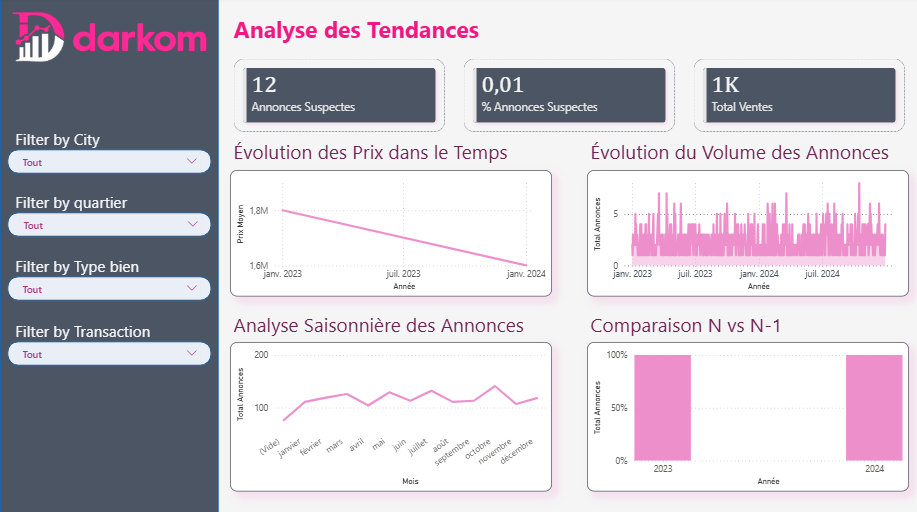

Layout of this report page (visuals, bound fields, positions):
{"tool":"powerbi","page":{"name":"analyse des tendances","canvas":[1280,720],"ordinal":3},"visuals":[{"type":"shape","box":[0,0,1280,719.4],"z":0},{"type":"shape","box":[0,0,304,720],"z":1000},{"type":"image","box":[0,0,304,112],"z":2000},{"type":"textbox","title":"titel","box":[320,16,688,64],"z":3000},{"type":"cardVisual","title":"averege price per m² (card)","fields":{"Data":["bi_schema fact_annonces.Annonces Suspectes"]},"box":[320,80,304,112],"z":4000},{"type":"cardVisual","title":"averege price per m² (card)","fields":{"Data":["bi_schema fact_annonces.Total Ventes"]},"box":[960,80,304,112],"z":5000},{"type":"cardVisual","title":"averege price per m² (card)","fields":{"Data":["bi_schema fact_annonces.% Annonces Suspectes"]},"box":[640,80,304,112],"z":6000},{"type":"areaChart","fields":{"Category":["bi_schema dim_date.date_publication.Variation.Hiérarchie de dates.Année","bi_schema dim_date.date_publication.Variation.Hiérarchie de dates.Trimestre","bi_schema dim_date.date_publication.Variation.Hiérarchie de dates.Mois","bi_schema dim_date.date_publication.Variation.Hiérarchie de dates.Jour"],"Y":["bi_schema fact_annonces.Total Annonces"]},"box":[816,240,448,176],"z":7000},{"type":"lineChart","fields":{"Category":["bi_schema dim_date.date_publication.Variation.Hiérarchie de dates.Mois"],"Y":["bi_schema fact_annonces.Total Annonces"]},"box":[320,480,448,208],"z":8000},{"type":"shape","box":[6.9,209.1,290.2,40.2],"z":9000},{"type":"slicer","fields":{"Values":["bi_schema dim_localisation.ville"]},"box":[15.6,204.8,273.9,40.6],"z":10000},{"type":"hundredPercentStackedColumnChart","fields":{"Y":["bi_schema fact_annonces.Total Annonces"],"Category":["bi_schema dim_date.date_publication.Variation.Hiérarchie de dates.Année"]},"box":[816,480,448,208],"z":11000},{"type":"textbox","title":"titel","box":[16.2,178.4,272,48],"z":12000},{"type":"shape","box":[7.5,296.5,290.2,40.2],"z":13000},{"type":"slicer","fields":{"Values":["bi_schema dim_localisation.quartier"]},"box":[16.2,292.1,273.9,40.6],"z":14000},{"type":"textbox","title":"titel","box":[16.9,265.7,272,48],"z":15000},{"type":"shape","box":[7.3,385.9,290.2,40.2],"z":16000},{"type":"slicer","fields":{"Values":["bi_schema dim_bien.type_bien"]},"box":[15.9,381.5,273.9,40.6],"z":17000},{"type":"textbox","title":"titel","box":[16.6,355.1,272,48],"z":18000},{"type":"textbox","title":"titel","box":[320,192,432,48],"z":19000},{"type":"textbox","title":"titel","box":[816,192,448,48],"z":20000},{"type":"textbox","title":"titel","box":[320,432,448,48],"z":21000},{"type":"textbox","title":"titel","box":[816,432,304,48],"z":22000},{"type":"shape","box":[7.3,476.5,290.2,40.2],"z":23000},{"type":"slicer","fields":{"Values":["bi_schema dim_bien.transaction"]},"box":[16,472.1,273.9,40.6],"z":24000},{"type":"textbox","title":"titel","box":[16.6,445.7,272,48],"z":25000},{"type":"lineChart","fields":{"Category":["bi_schema dim_date.date_publication.Variation.Hiérarchie de dates.Année","bi_schema dim_date.date_publication.Variation.Hiérarchie de dates.Trimestre","bi_schema dim_date.date_publication.Variation.Hiérarchie de dates.Mois","bi_schema dim_date.date_publication.Variation.Hiérarchie de dates.Jour"],"Y":["bi_schema fact_annonces.Prix Moyen"]},"box":[320,240,448,176],"z":26000}]}

Visuals, with their boxes in screenshot pixels (x1, y1, x2, y2), scaled from the page's 1280x720 canvas onto the 917x512 screenshot:
shape: [0, 0, 916, 511]
shape: [0, 0, 218, 511]
image: [0, 0, 218, 80]
"titel" textbox: [229, 11, 722, 57]
"averege price per m² (card)" cardVisual: [229, 57, 447, 137]
"averege price per m² (card)" cardVisual: [688, 57, 906, 137]
"averege price per m² (card)" cardVisual: [458, 57, 676, 137]
areaChart - bi_schema dim_date.date_publication.Variation.Hiérarchie de dates.Année x bi_schema dim_date.date_publication.Variation.Hiérarchie de dates.Trimestre: [585, 171, 906, 296]
lineChart - bi_schema dim_date.date_publication.Variation.Hiérarchie de dates.Mois x bi_schema fact_annonces.Total Annonces: [229, 341, 550, 489]
shape: [5, 149, 213, 177]
slicer - bi_schema dim_localisation.ville: [11, 146, 207, 175]
hundredPercentStackedColumnChart - bi_schema fact_annonces.Total Annonces x bi_schema dim_date.date_publication.Variation.Hiérarchie de dates.Année: [585, 341, 906, 489]
"titel" textbox: [12, 127, 206, 161]
shape: [5, 211, 213, 239]
slicer - bi_schema dim_localisation.quartier: [12, 208, 208, 237]
"titel" textbox: [12, 189, 207, 223]
shape: [5, 274, 213, 303]
slicer - bi_schema dim_bien.type_bien: [11, 271, 208, 300]
"titel" textbox: [12, 253, 207, 287]
"titel" textbox: [229, 137, 539, 171]
"titel" textbox: [585, 137, 906, 171]
"titel" textbox: [229, 307, 550, 341]
"titel" textbox: [585, 307, 802, 341]
shape: [5, 339, 213, 367]
slicer - bi_schema dim_bien.transaction: [11, 336, 208, 365]
"titel" textbox: [12, 317, 207, 351]
lineChart - bi_schema dim_date.date_publication.Variation.Hiérarchie de dates.Année x bi_schema dim_date.date_publication.Variation.Hiérarchie de dates.Trimestre: [229, 171, 550, 296]
